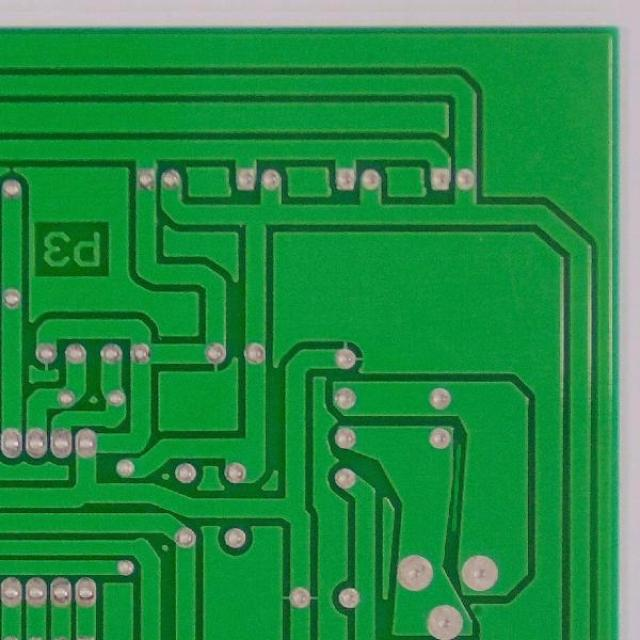spurious_copper: (448, 443, 469, 533)
